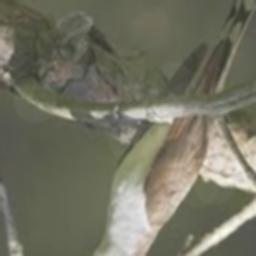Cuckoo: (65, 0, 256, 256)
